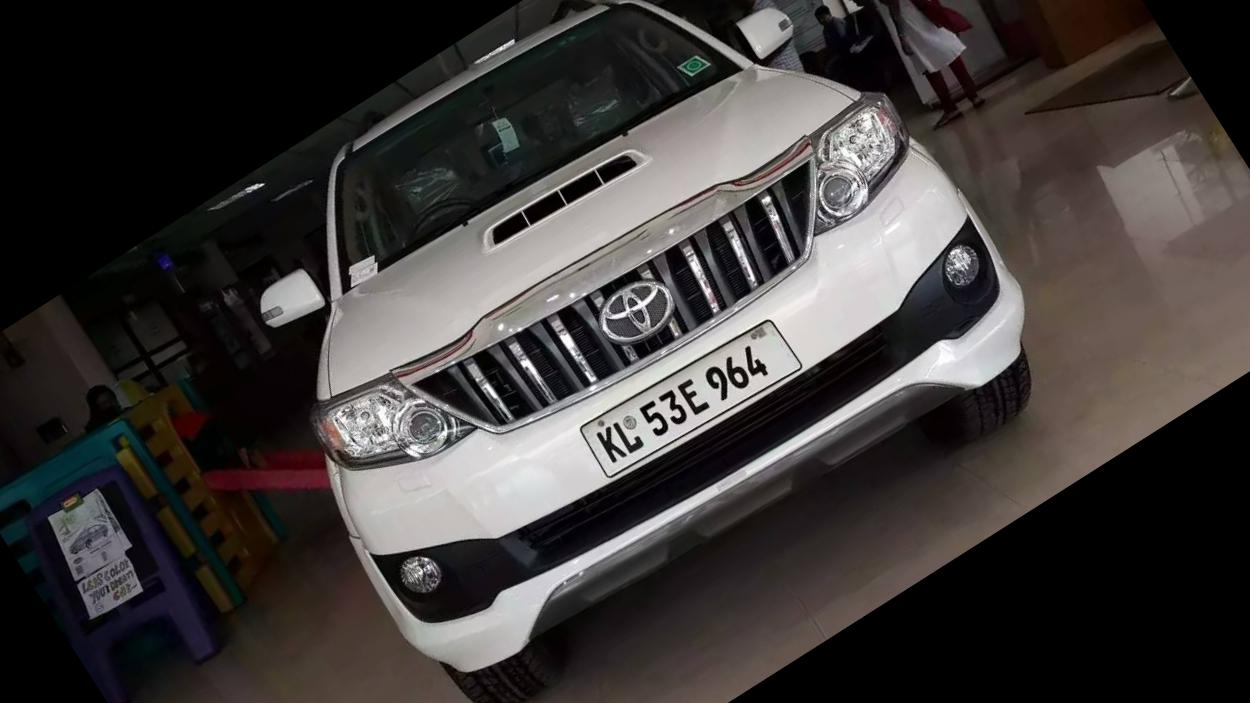plate: (564, 294, 819, 502)
